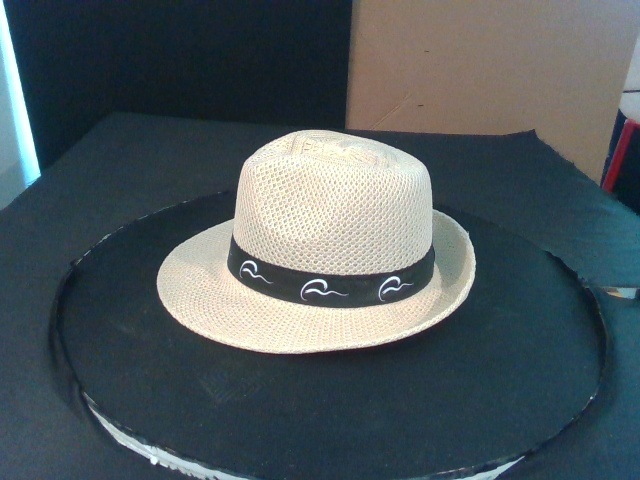hat: (156, 128, 477, 355)
